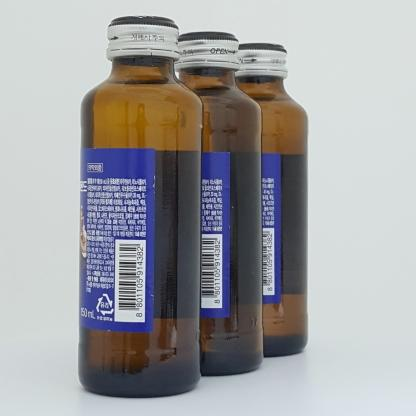---------------150ML: (78, 16, 204, 398), (152, 32, 262, 376), (213, 42, 308, 358)
